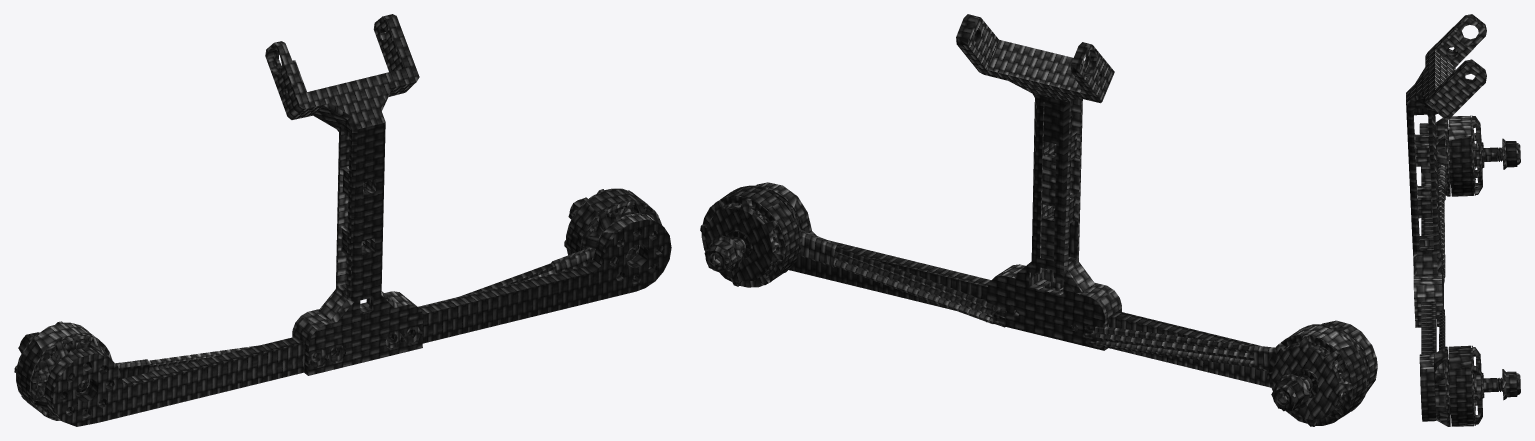
Rendered from arm_right_colored.dae.
3 renders of one model, left to right at view 1: azimuth 30°, elevation 25°; view 2: azimuth 150°, elevation 25°; view 3: azimuth 270°, elevation 25°, orthographic. The views are drawn at different scales.
Visible parts, largest first — view 1: arm_right; view 2: arm_right; view 3: arm_right.
Boxes of the visible parts, x1,y1,x2,y2 form: arm_right: [14, 14, 671, 426]; arm_right: [700, 14, 1377, 426]; arm_right: [1406, 14, 1520, 426].
Size of the model in its own units: 0.2201 by 0.0404 by 0.1047.
1 material, 1 textured.
